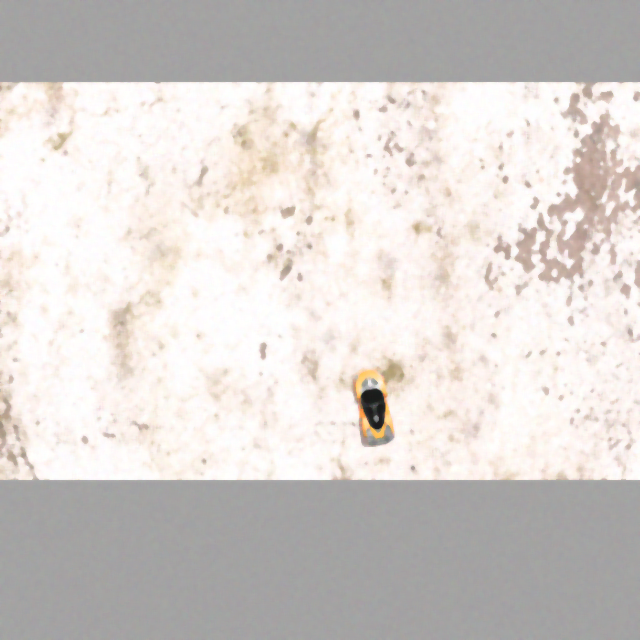car: (351, 366, 398, 448)
